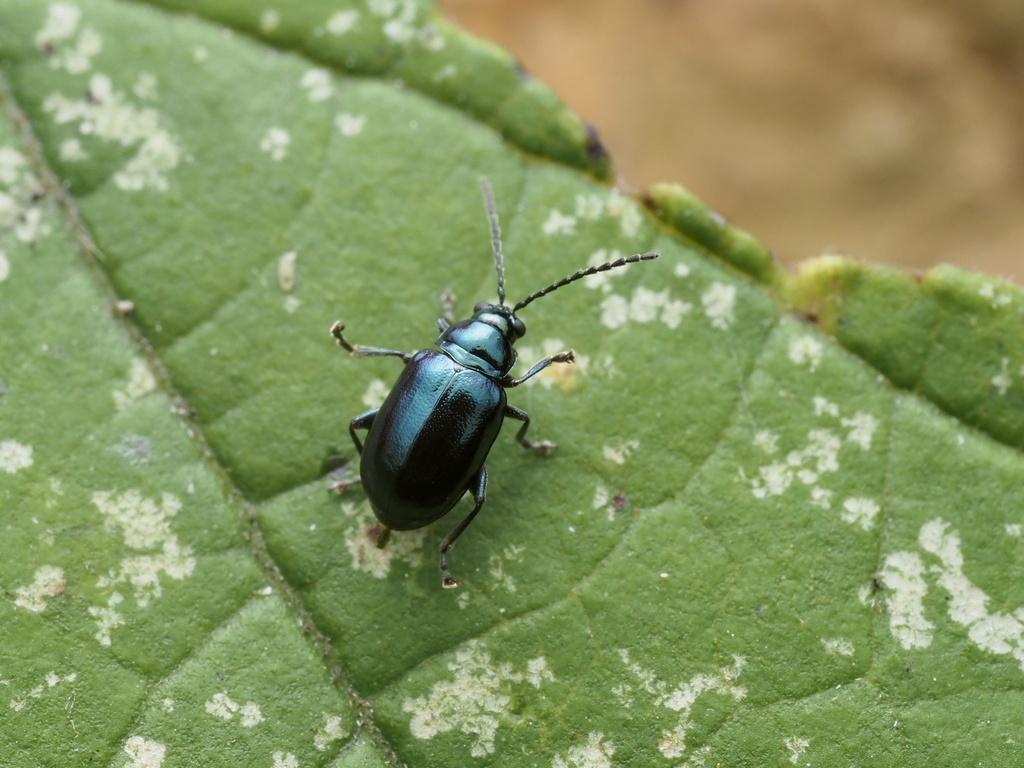flea_beetle: (290, 136, 681, 612)
